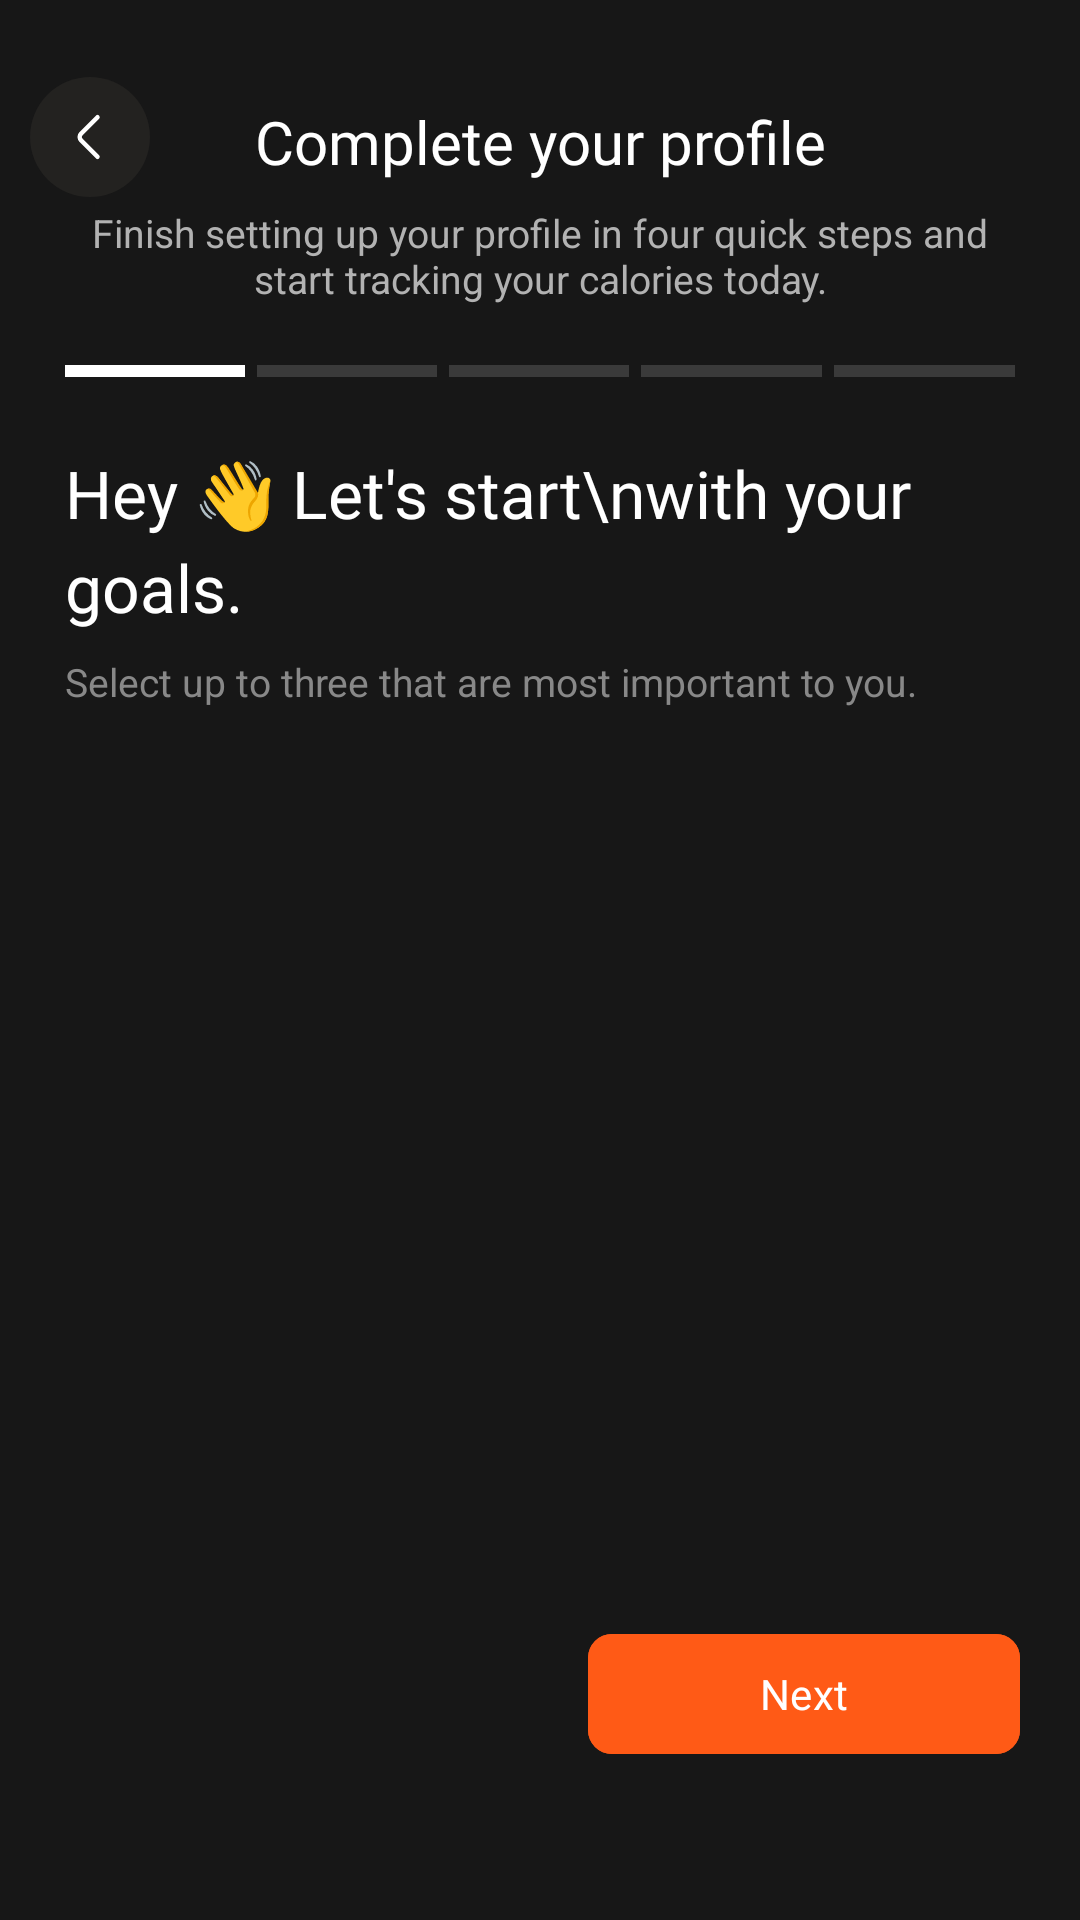

Icons on this 1080*1920 Android screen, each with its box as (x1, y1, x2, y2):
back: (30, 77, 150, 197)
